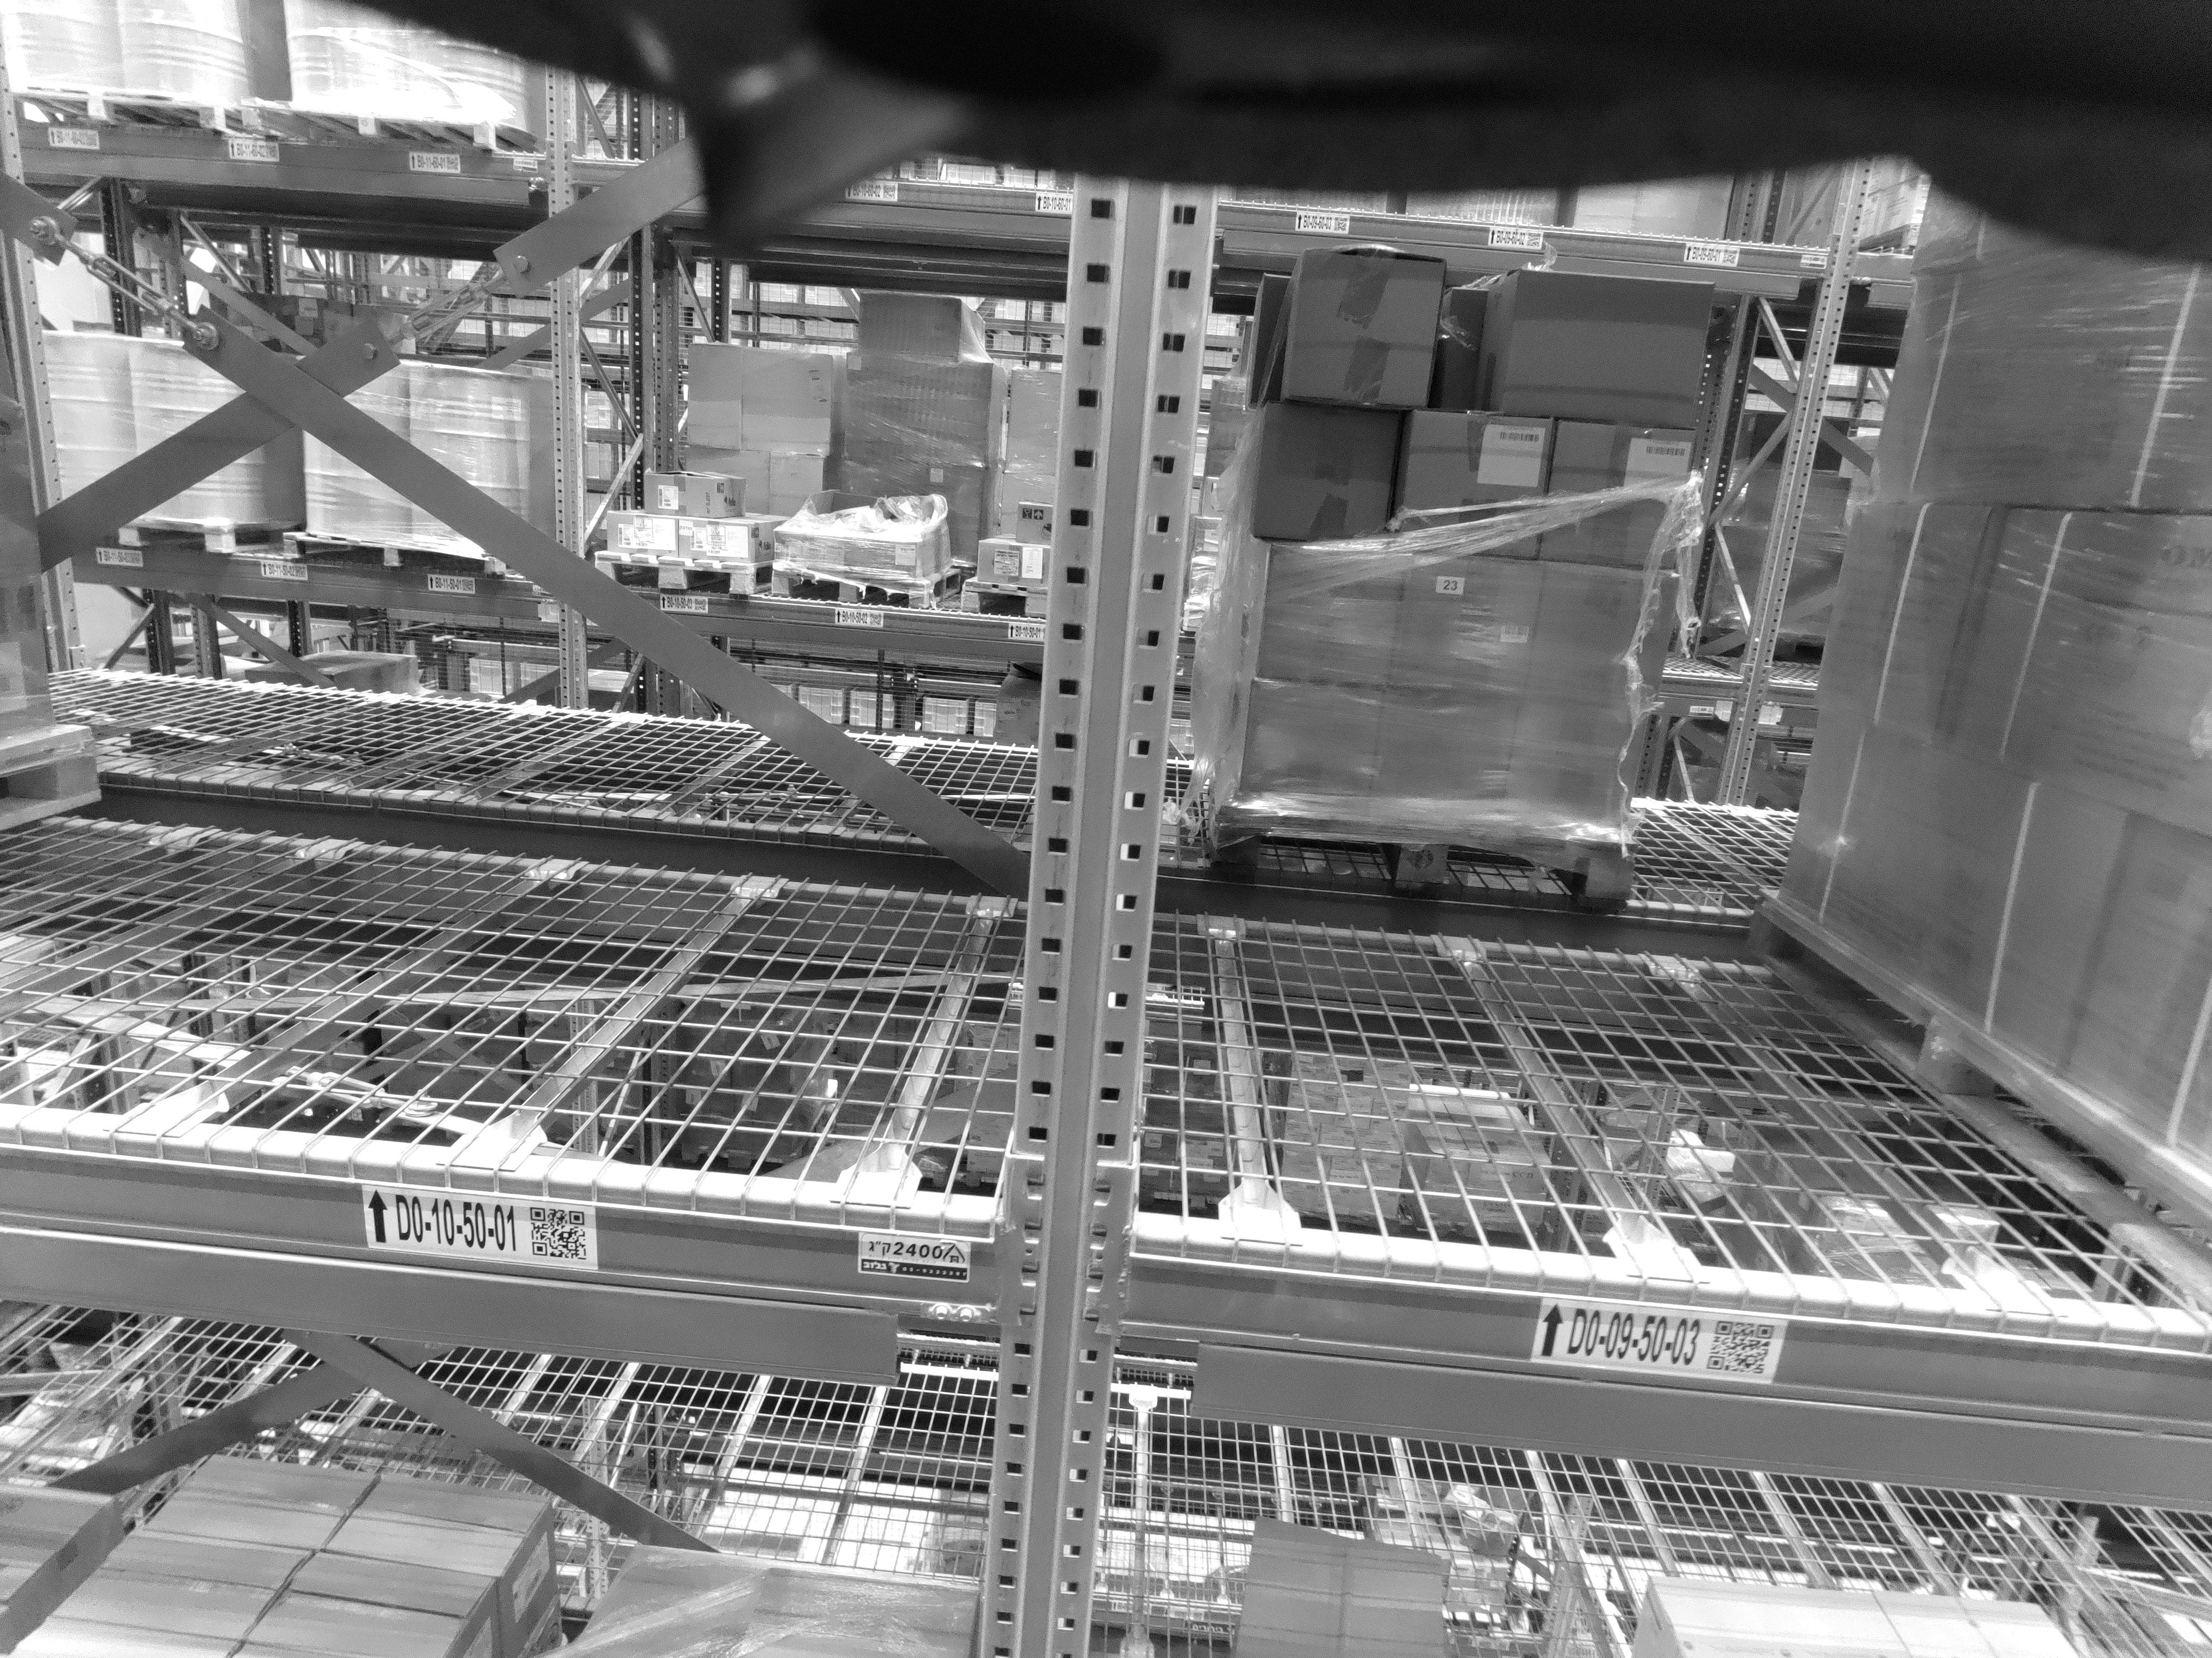empty-shelf: (47, 254, 974, 1127), (1264, 246, 1939, 1235)
